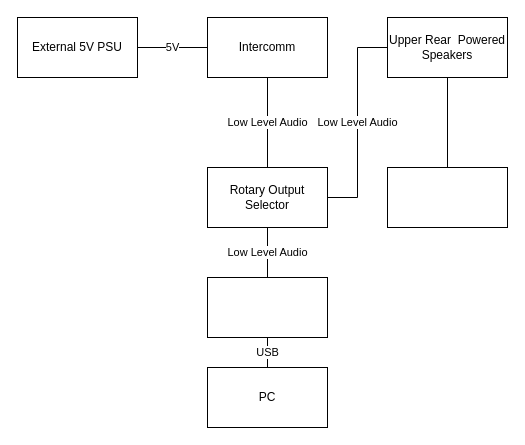
The diagram is 525 pixels wide and 445 high, and some of its shapes have lost their labels. Here are the shapes that lost their labels. From the top down, the box of each, then its label:
(386, 166, 508, 228): Logitech Power Supply?
(206, 276, 328, 338): Sound Blaster External
